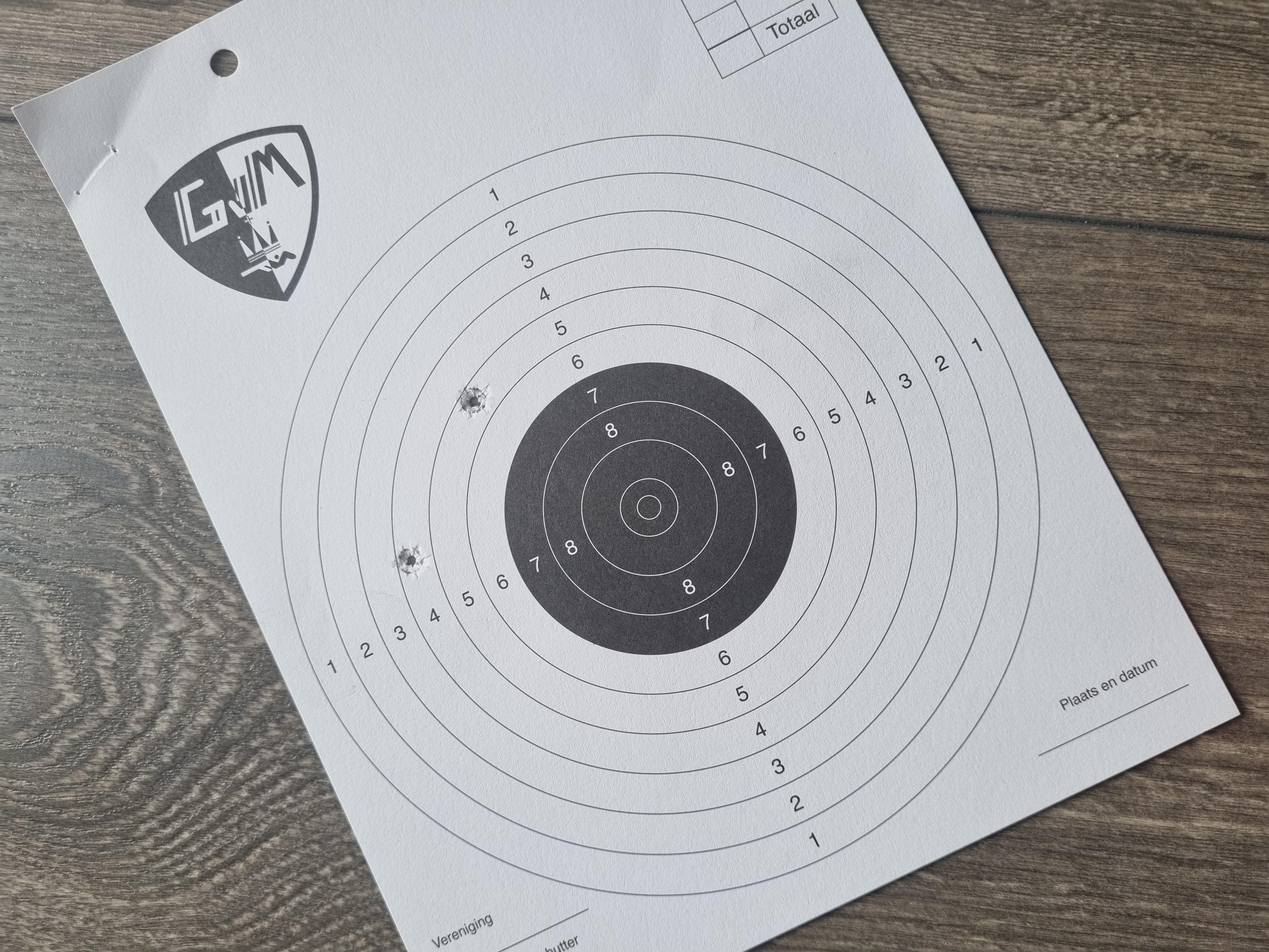hole: (713, 343, 753, 365), (502, 298, 542, 318)
